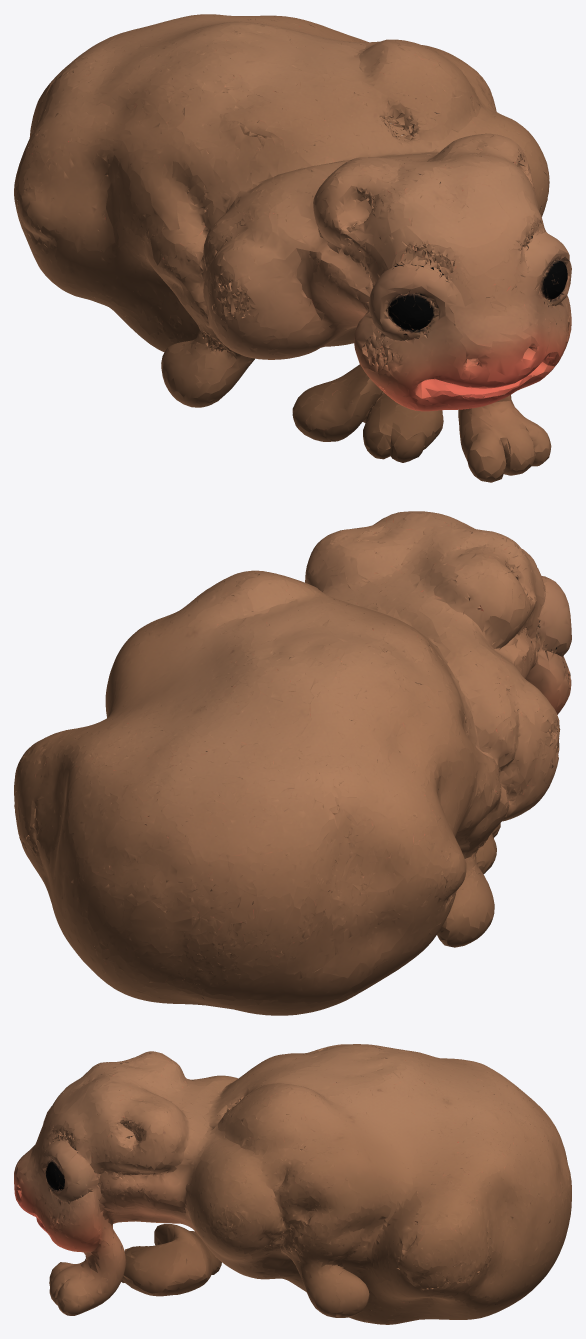
File: asymmetric-bead-chain-lirm07-clay-depth-normal-anatomical-completion-seed718202.glb
3 renders of one model, top to bottom at view 1: azimuth 30°, elevation 25°; view 2: azimuth 150°, elevation 25°; view 3: azimuth 270°, elevation 25°, orthographic. The views are drawn at different scales.
Visible parts, largest first — view 1: world; view 2: world; view 3: world.
Part boxes in pixels (x1=…): world: x1=14, y1=14, x2=571, y2=482; world: x1=14, y1=511, x2=571, y2=1015; world: x1=14, y1=1044, x2=571, y2=1324.
Size of the model in its own units: 0.6575 by 0.4611 by 0.9998.
1 material, 1 textured.
